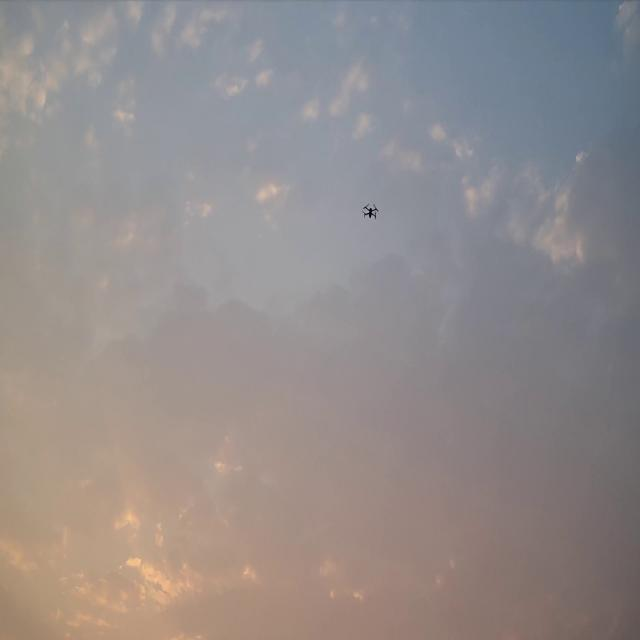UAV: (361, 202, 379, 220)
